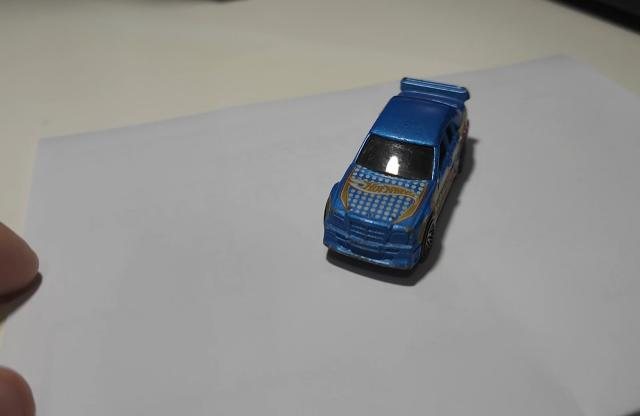04_MERZEDES: (322, 77, 475, 272)
